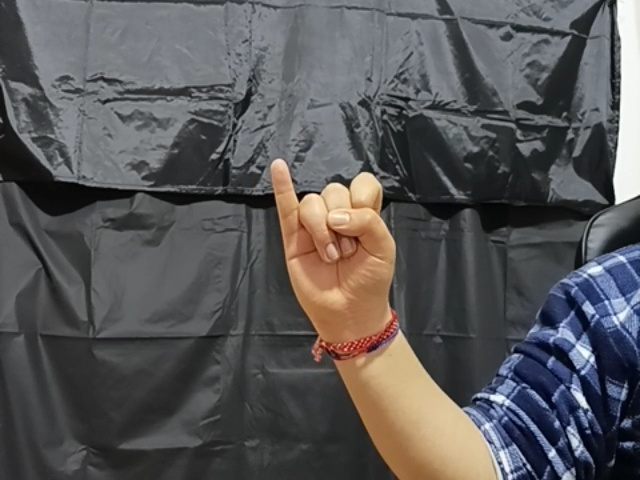I: (266, 154, 400, 319)
